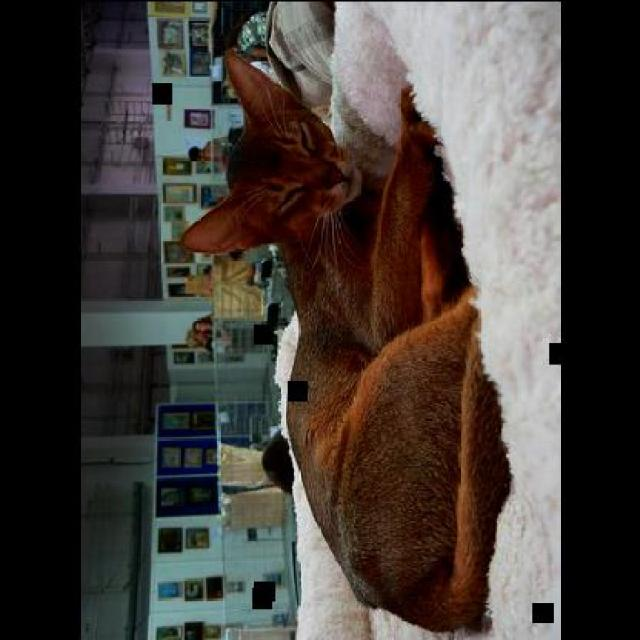unauthorized: (178, 45, 512, 637)
